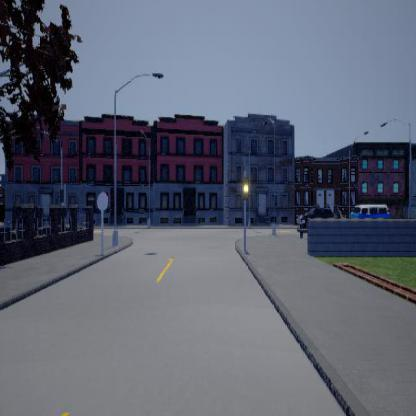traffic_light_orange: (242, 172, 247, 203)
vehicle: (296, 206, 333, 228), (350, 204, 389, 216)
